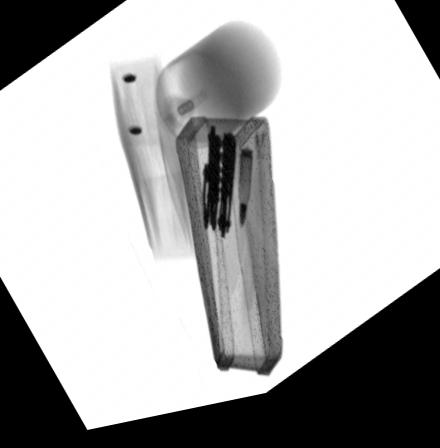Bullet: (238, 158, 254, 237)
HandCuffs: (201, 131, 235, 248)
